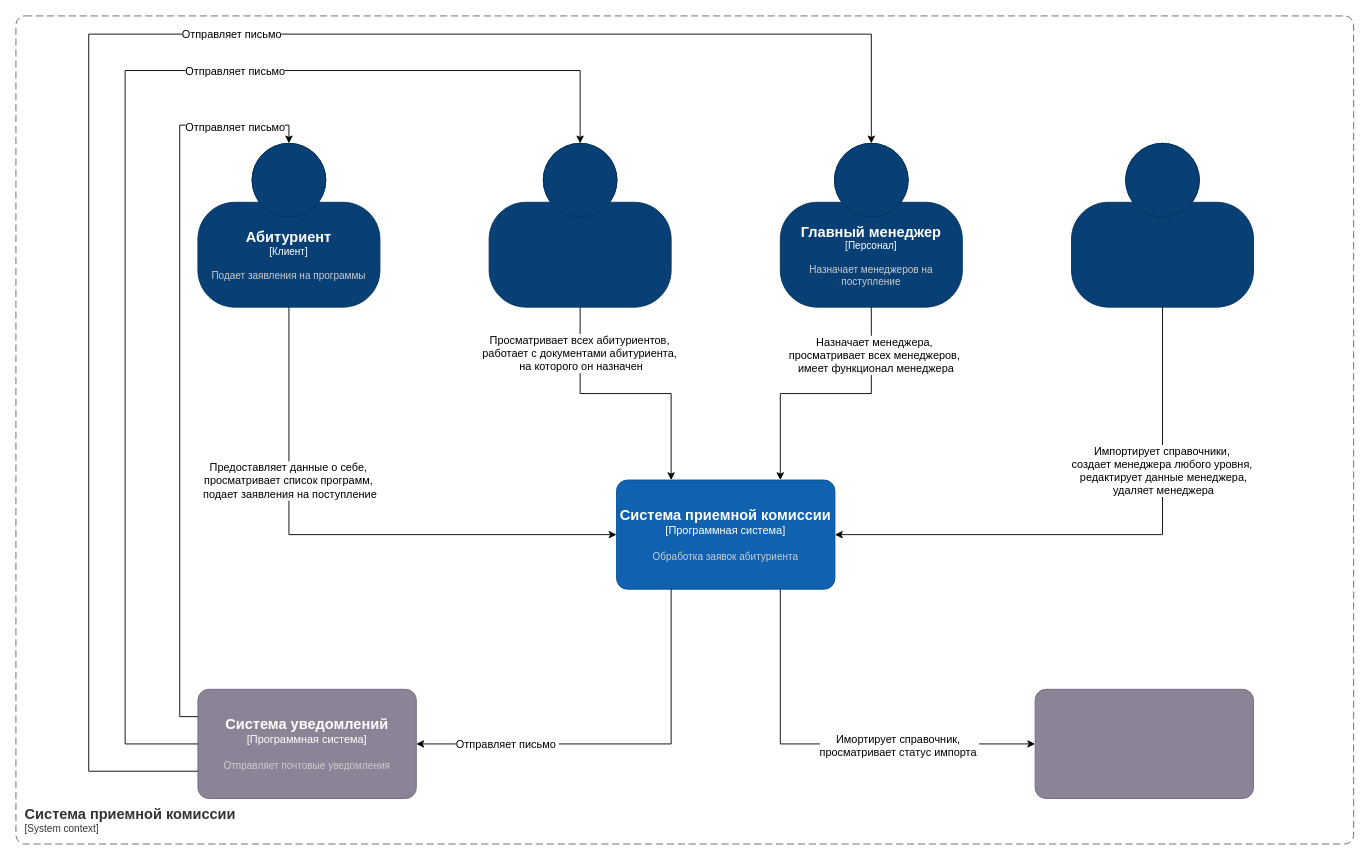
This 1370x860 diagram has some shape labels left out. Here are the shapes that lost their labels. From the top down, the box of each, then its label:
(488, 142, 671, 307): Менеджер [Персонал] Работает с заявками абитуриентов, на которых назначен
(1071, 142, 1254, 307): Администратор [Персонал] Занимается управлением и обслуживанием системы
(1034, 688, 1254, 799): Система справочник [Программная система] Предоставляет внешние данные
